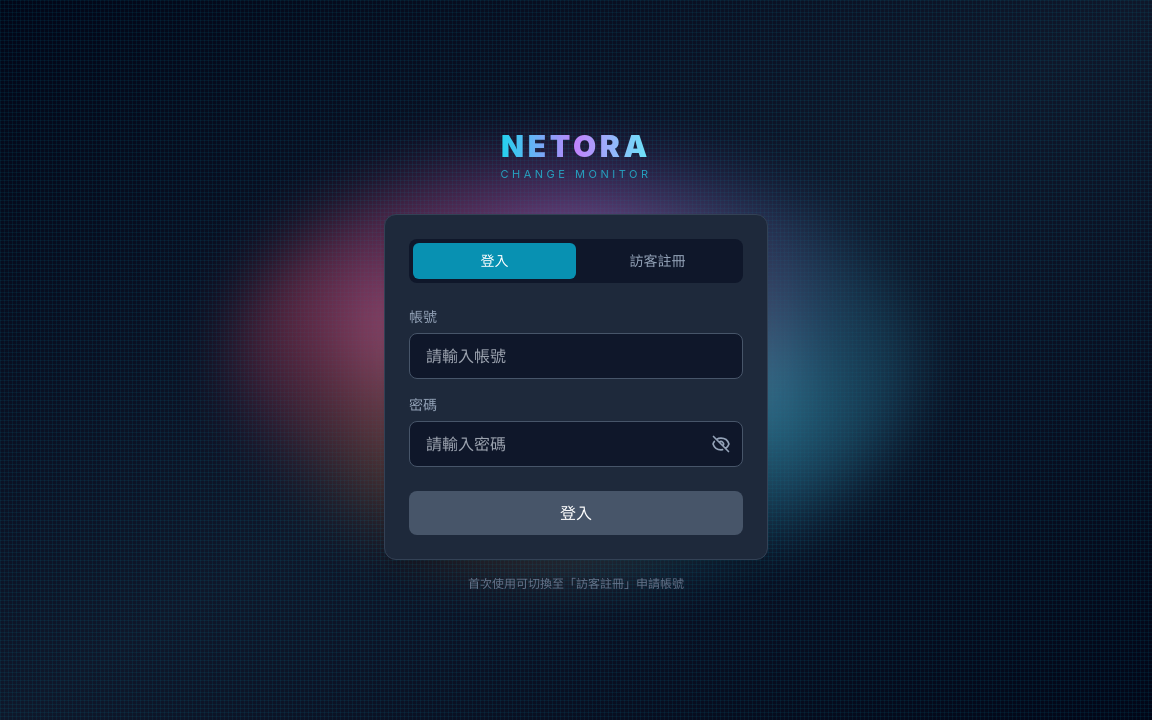
Test: Login › switching to register tab shows registration form
This screenshot has width=1152, height=720.
Click the button "訪客註冊".
click(658, 261)  # box [576,243,739,279]
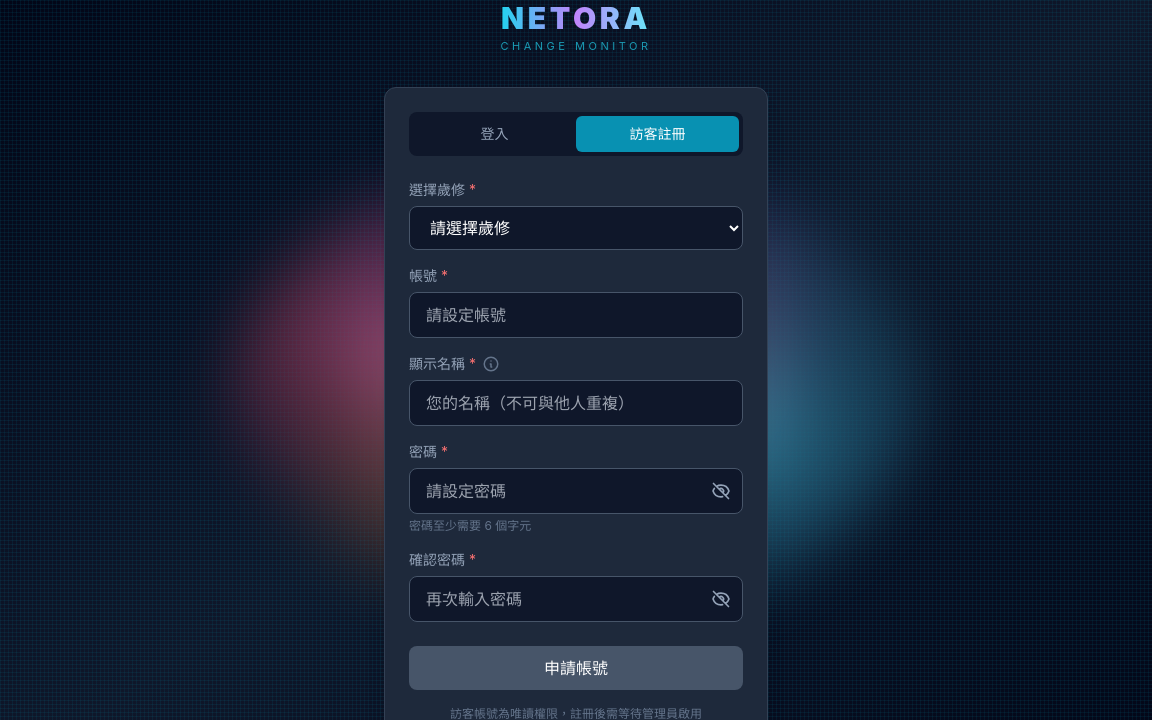
Expected: the field with placeholder "請設定帳號" is shown, [409,292,743,338]
Expected: the submit button reads "申請帳號", [409,646,743,690]
